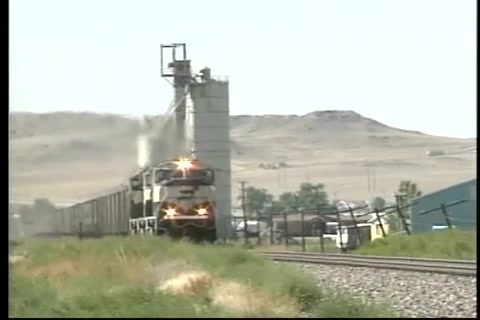train: (30, 158, 221, 242)
